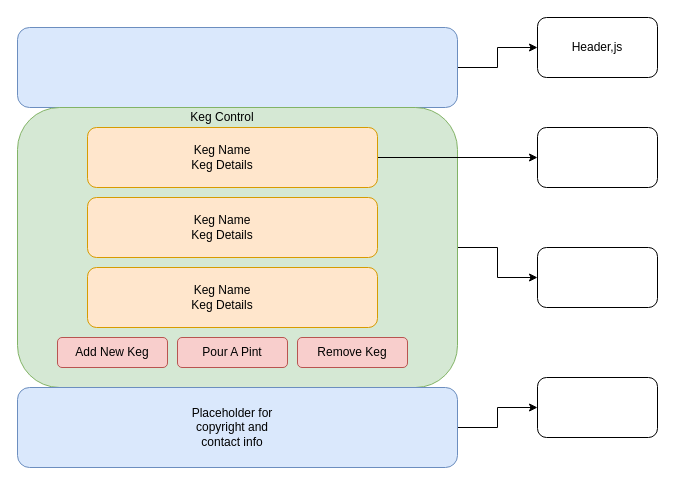
Some shapes in this 675 by 485 pixel diagram are drawn without their labels. Here are the shapes that lost their labels. From the top down, the box of each, then its label:
(16, 26, 458, 108): Placeholder for Tap Room Name
(536, 126, 658, 188): Keg Detail.js
(536, 246, 658, 308): KegControl.js
(536, 376, 658, 438): Footer.js
